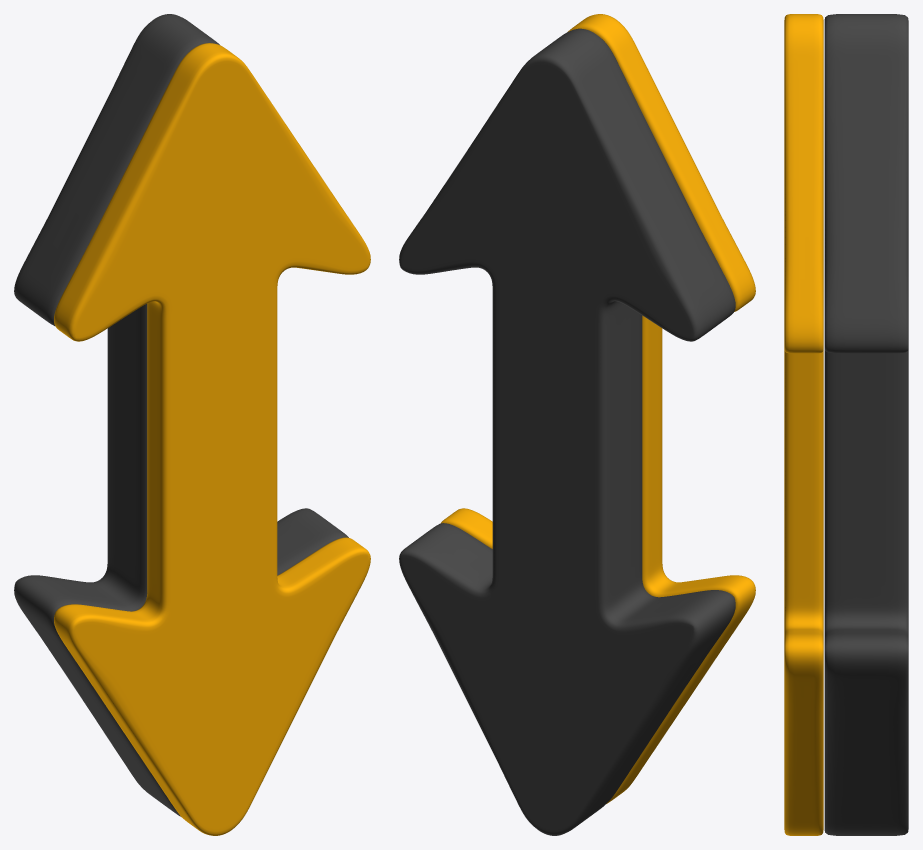
Rendered from scale-animated-3d-icon-1127548597871.glb.
The picture shows the model from 3 angles, left to right: view 1: azimuth 30°, elevation 25°; view 2: azimuth 150°, elevation 25°; view 3: azimuth 270°, elevation 25°; orthographic projection. The views are drawn at different scales.
Parts seen in each view (by area): view 1: Retopo_Plane.002, Retopo_Plane.001; view 2: Retopo_Plane.001, Retopo_Plane.002; view 3: Retopo_Plane.001, Retopo_Plane.002.
Part boxes in pixels (left/top/right/bottom): Retopo_Plane.002: left=54, top=43, right=370, bottom=835; Retopo_Plane.001: left=14, top=14, right=348, bottom=816; Retopo_Plane.001: left=399, top=28, right=735, bottom=835; Retopo_Plane.002: left=440, top=14, right=755, bottom=803; Retopo_Plane.001: left=824, top=14, right=908, bottom=835; Retopo_Plane.002: left=784, top=14, right=823, bottom=835.
Size of the model in its own units: 0.7706 by 1.91 by 0.2626.
